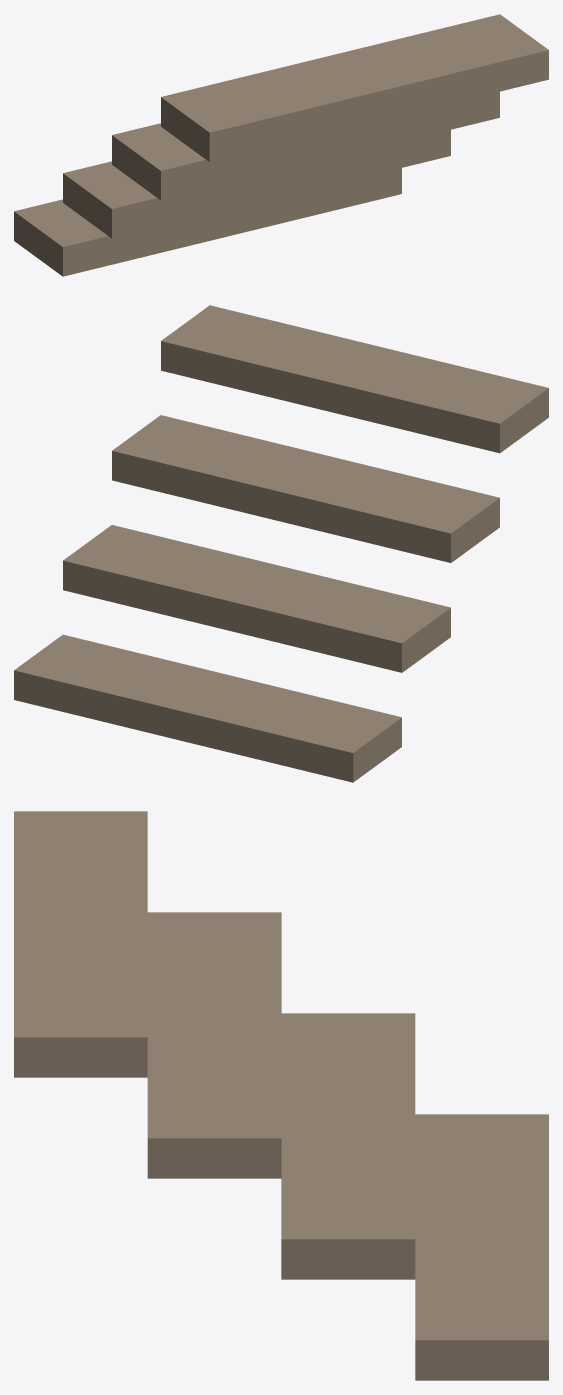
The model's file is stairs.glb.
3 renders of one model, top to bottom at view 1: azimuth 30°, elevation 25°; view 2: azimuth 150°, elevation 25°; view 3: azimuth 270°, elevation 25°, orthographic. The views are drawn at different scales.
Visible parts, largest first — view 1: geometry_0; view 2: geometry_0; view 3: geometry_0.
Part boxes in pixels (bbox=[...]): geometry_0: bbox=[14, 14, 548, 276]; geometry_0: bbox=[14, 305, 548, 782]; geometry_0: bbox=[14, 811, 548, 1380].
Size of the model in its own units: 1.2 by 0.85 by 1.2.
